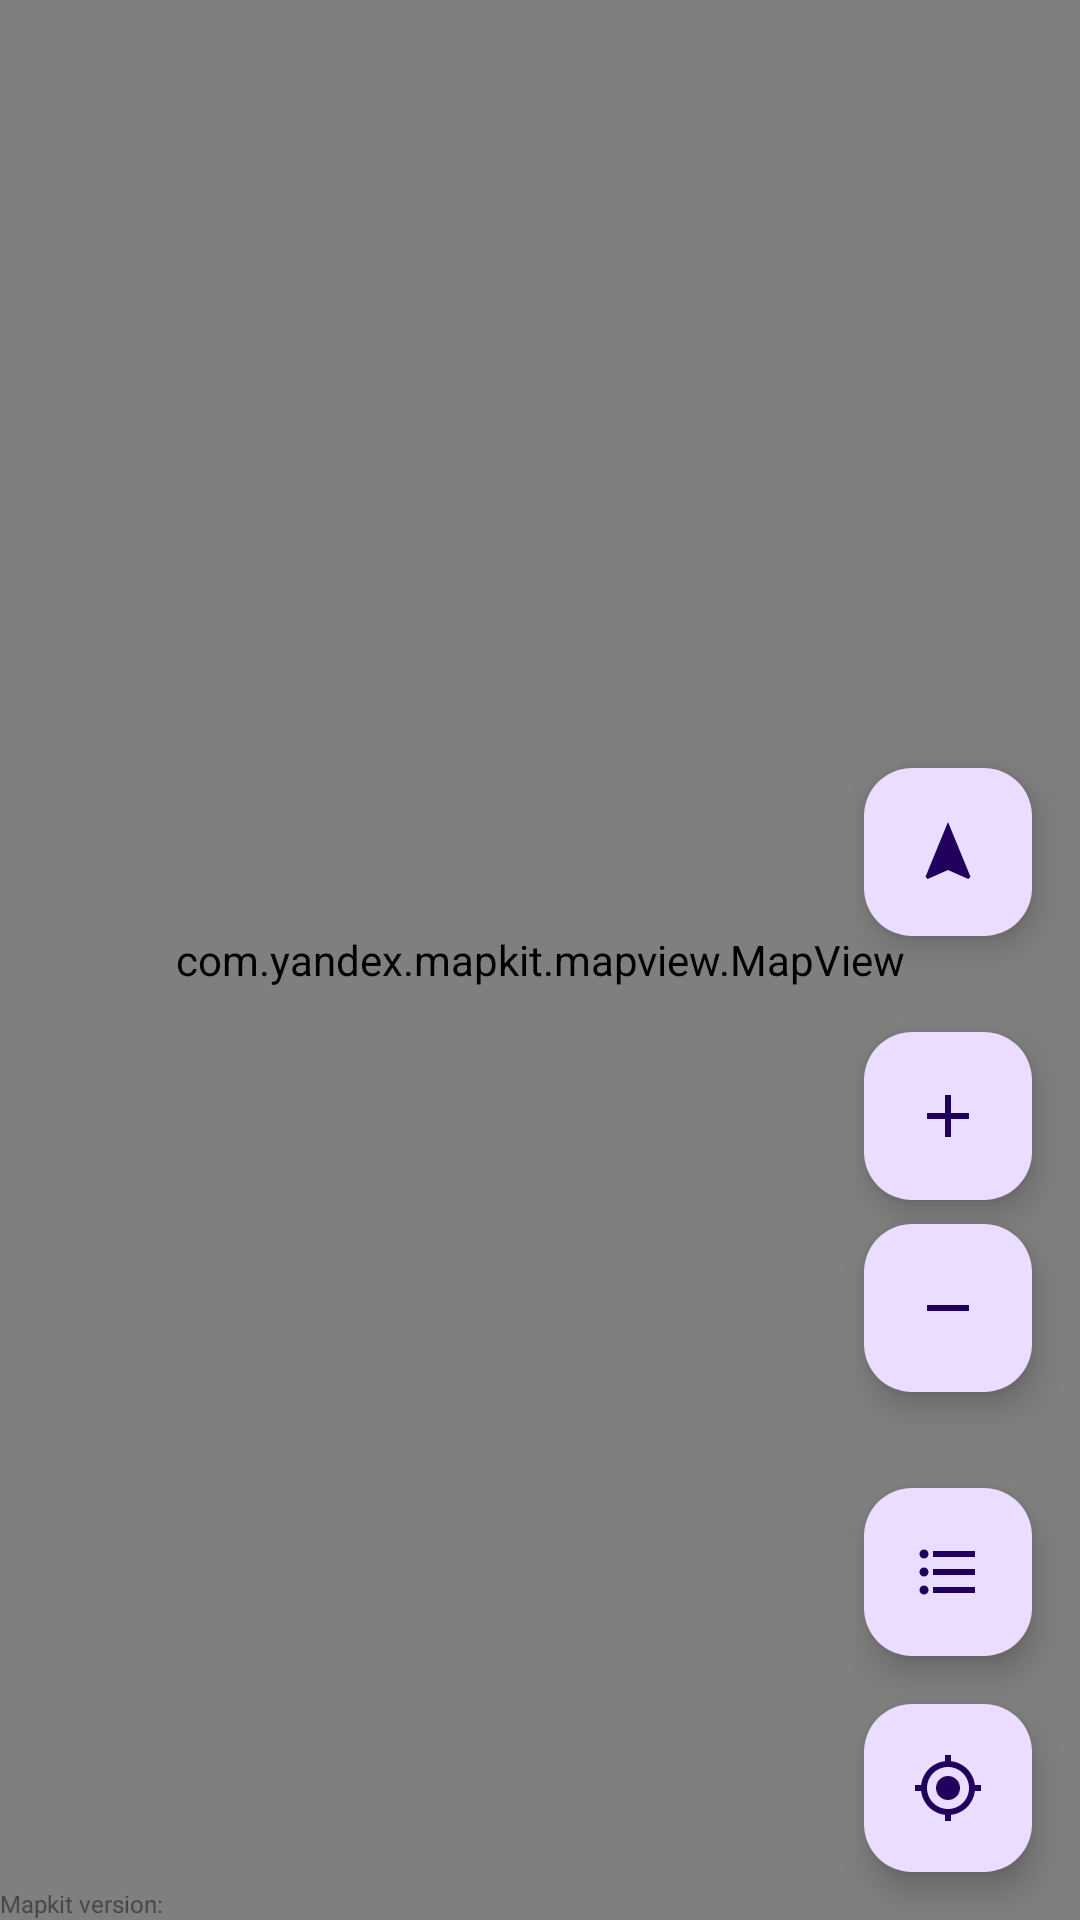

Point at icon controls on the screen. Image size 1080x1920, points as [x,y].
closer: [948,1116]
format list bulleted: [948,1572]
further: [948,1308]
location: [948,1788]
navigation: [948,852]
